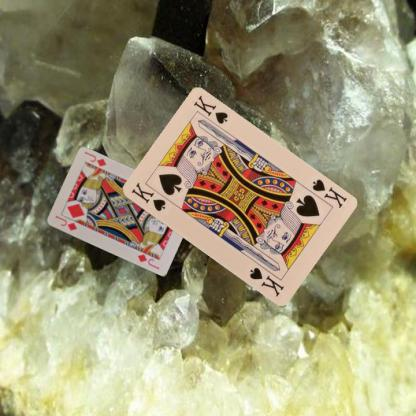Jd: (53, 212, 78, 233)
Ks: (309, 176, 348, 210), (128, 180, 167, 212)
